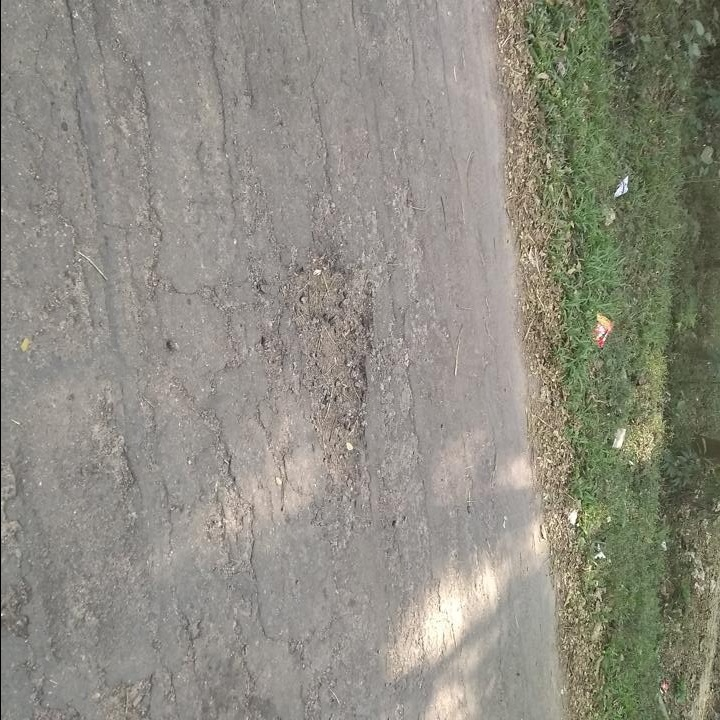pothole: (281, 240, 376, 491)
